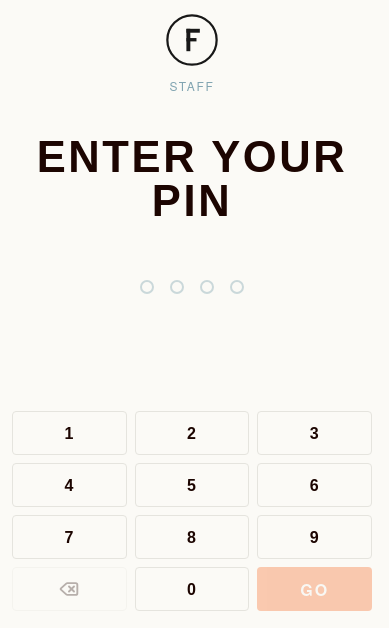
Test: LoginForm › does not allow double-submit while loading
The width and height of the screenshot is (389, 628).
Step 1. Click the button "1" → (69, 433), box [12,411,127,455]
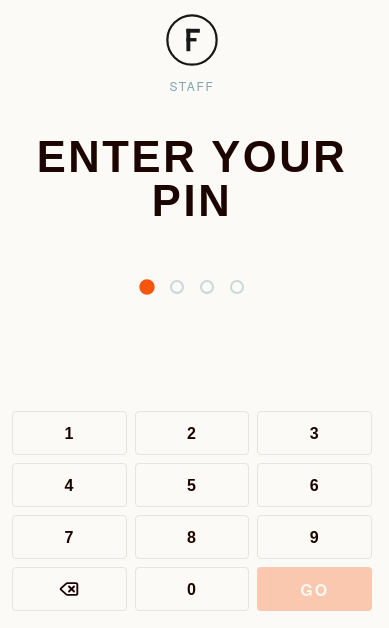
Step 2. Click the button "2" → (192, 433), box [135,411,249,455]
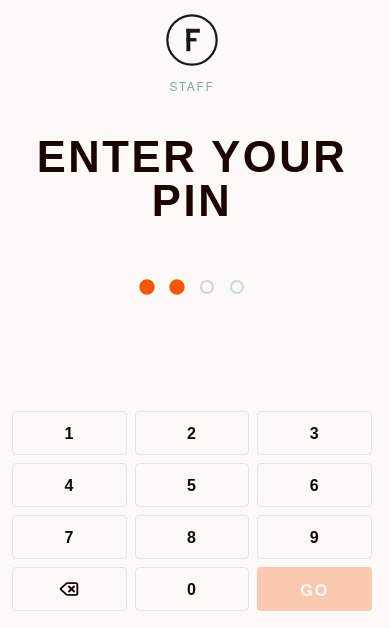
Step 3. Click the button "3" → (315, 433), box [257,411,372,455]
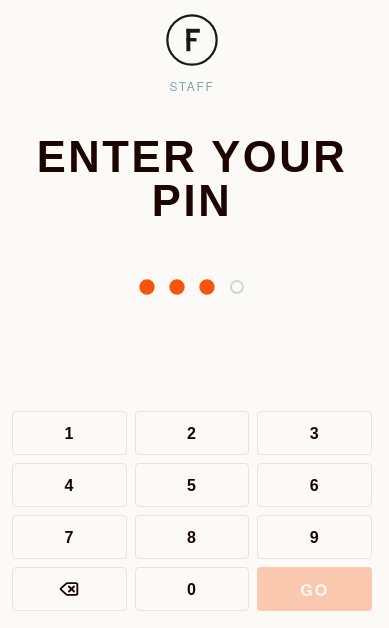
Step 4. Click the button "4" → (69, 485), box [12,463,127,507]
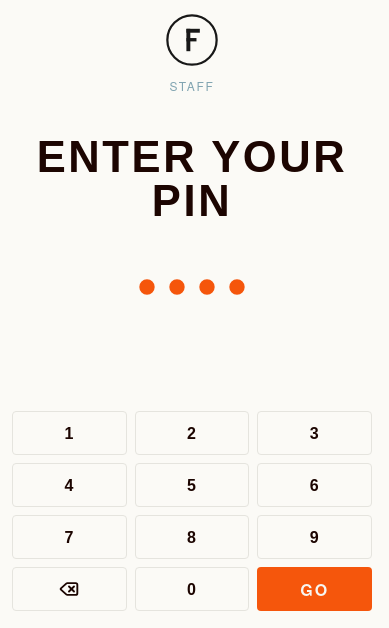
Step 5. Click the button with aria-label "Confirm PIN" → (315, 589), box [257,567,372,611]
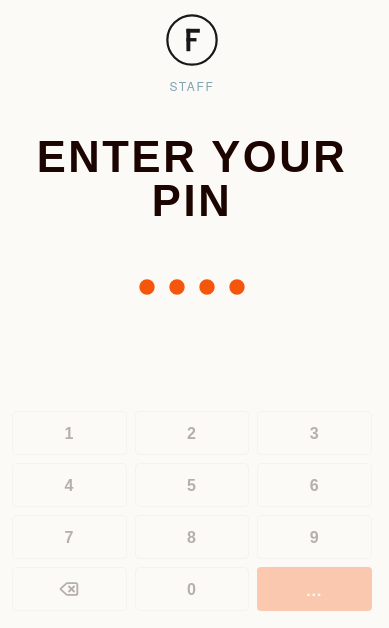
expect the button named "Confirm PIN" is disabled: met, box [257,567,372,611]
